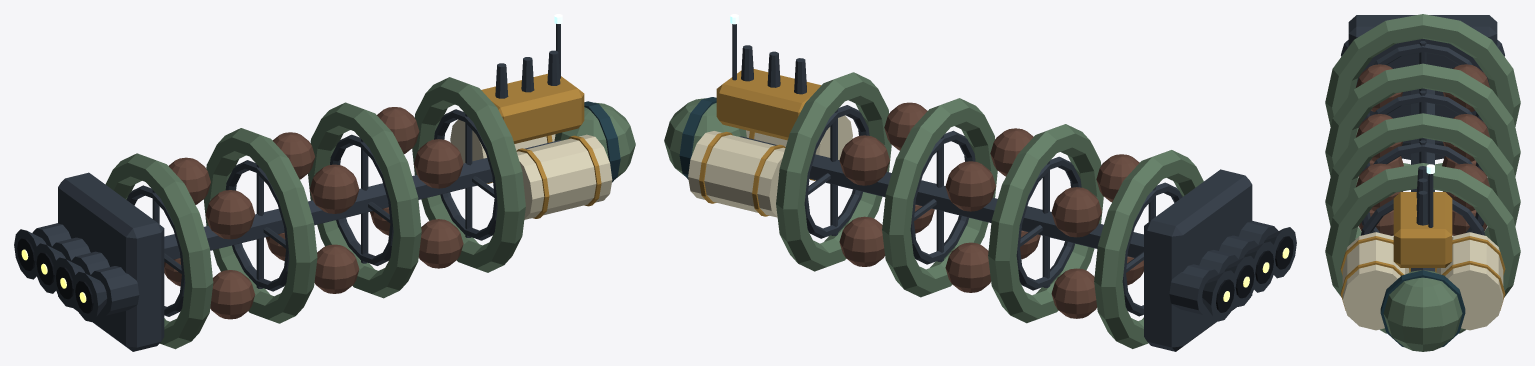
File: garden-debt.glb
The picture shows the model from 3 angles, left to right: view 1: azimuth 30°, elevation 25°; view 2: azimuth 150°, elevation 25°; view 3: azimuth 270°, elevation 25°; orthographic projection. The views are drawn at different scales.
Parts seen in each view (by area): view 1: reactor shield complex, habitat wheel.003, habitat wheel.002, habitat wheel.001, habitat wheel, water reservoir, atmosphere works, primary spine, seed and biome vault.010, seed and biome vault.002, seed and biome vault.006, seed and biome vault.008 (+20 smaller); view 2: reactor shield complex, habitat wheel.001, habitat wheel.003, habitat wheel.002, habitat wheel, water reservoir.001, atmosphere works, primary spine, seed and biome vault.011, seed and biome vault.003, seed and biome vault.007, seed and biome vault.001 (+21 smaller); view 3: habitat wheel.003, habitat wheel.002, habitat wheel, habitat wheel.001, forward command sphere, atmosphere works, water reservoir, water reservoir.001, reactor shield complex, wheel structure.002, wheel structure, wheel structure.001 (+19 smaller).
Part boxes in pixels (box(x1,y1,x2,y2)): reactor shield complex: box(58, 172, 164, 351); habitat wheel.003: box(412, 77, 525, 272); habitat wheel.002: box(308, 102, 421, 298); habitat wheel.001: box(203, 128, 317, 323); habitat wheel: box(105, 153, 213, 349); water reservoir: box(516, 134, 612, 219); atmosphere works: box(481, 73, 584, 143); primary spine: box(164, 140, 560, 259); seed and biome vault.010: box(414, 139, 463, 188); seed and biome vault.002: box(205, 190, 254, 239); seed and biome vault.006: box(309, 164, 359, 213); seed and biome vault.008: box(418, 219, 463, 268); reactor shield complex: box(1144, 169, 1252, 351); habitat wheel.001: box(988, 124, 1103, 323); habitat wheel.003: box(776, 72, 891, 271); habitat wheel.002: box(882, 98, 997, 297); habitat wheel: box(1094, 150, 1203, 348); water reservoir.001: box(688, 131, 785, 217); atmosphere works: box(716, 69, 820, 140); primary spine: box(740, 136, 1143, 257); seed and biome vault.011: box(839, 135, 889, 185); seed and biome vault.003: box(1051, 187, 1101, 237); seed and biome vault.007: box(945, 161, 995, 211); seed and biome vault.001: box(1051, 268, 1096, 318); habitat wheel.003: box(1325, 163, 1520, 333); habitat wheel.002: box(1325, 113, 1520, 271); habitat wheel: box(1325, 14, 1520, 166); habitat wheel.001: box(1325, 63, 1520, 185); forward command sphere: box(1383, 270, 1462, 351); atmosphere works: box(1393, 192, 1452, 267); water reservoir: box(1342, 232, 1409, 330); water reservoir.001: box(1436, 232, 1503, 330); reactor shield complex: box(1348, 15, 1497, 145); wheel structure.002: box(1361, 143, 1484, 232); wheel structure: box(1362, 43, 1483, 159); wheel structure.001: box(1362, 93, 1483, 171).
Size of the model in its own units: 16.61 by 6.17 by 5.
